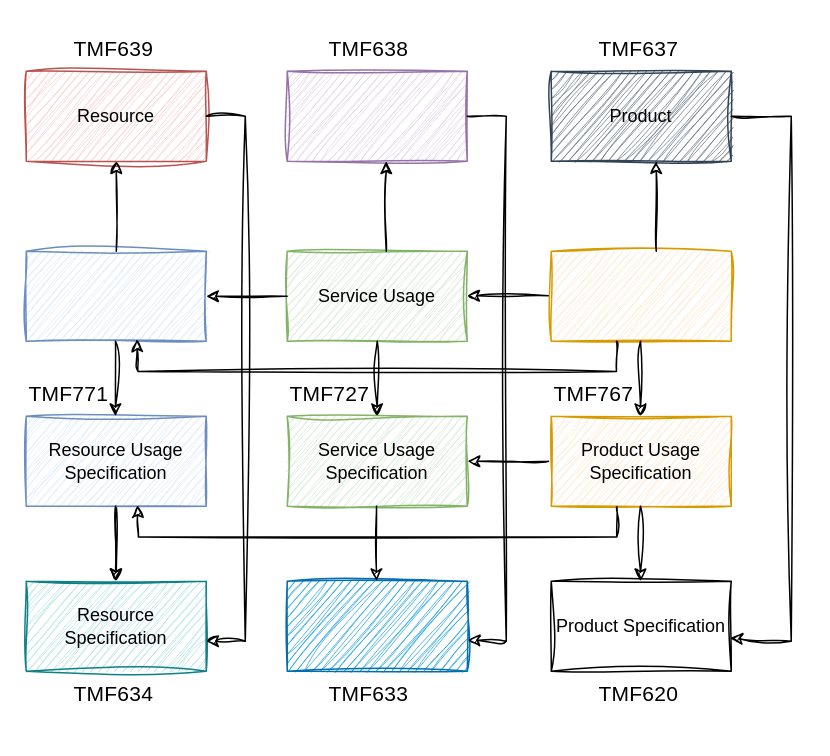
The diagram is 830 pixels wide and 756 high, and some of its shapes have lost their labels. The shapes that lost their labels are listed below. From the top down, each one's box as (x1, y1, x2, y2) in pixels, then its label:
(286, 70, 467, 161): Service
(25, 250, 206, 341): Resource Usage
(550, 250, 731, 341): Product Usage
(286, 580, 467, 671): Service Specification
